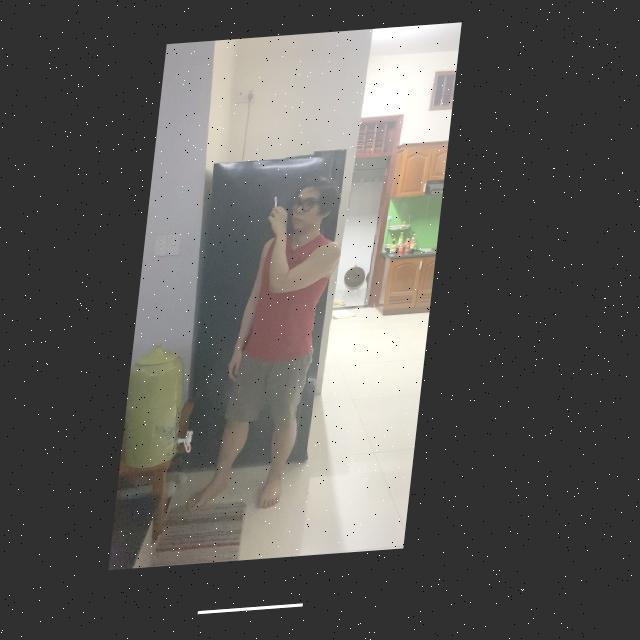cigarette: (278, 201, 282, 212)
